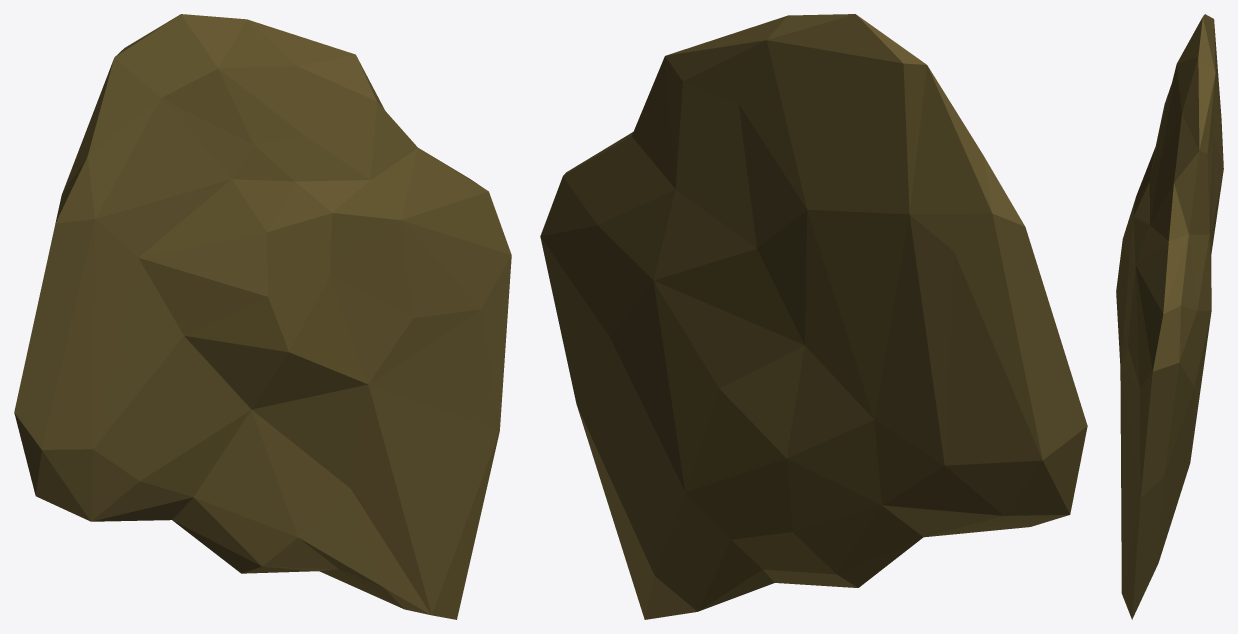
3 renders of one model, left to right at view 1: azimuth 30°, elevation 25°; view 2: azimuth 150°, elevation 25°; view 3: azimuth 270°, elevation 25°, orthographic. The views are drawn at different scales.
Visible parts, largest first — view 1: DirtPile.002_0; view 2: DirtPile.002_0; view 3: DirtPile.002_0.
Part boxes in pixels (x1,y1,x2,y2): DirtPile.002_0: (14, 14, 511, 619); DirtPile.002_0: (540, 14, 1087, 619); DirtPile.002_0: (1116, 14, 1223, 619).
Size of the model in its own units: 5.32 by 6.58 by 1.26.
